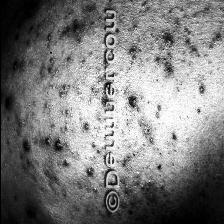Non-Cancerous Skin Condition: (0, 7, 100, 190), (142, 0, 224, 110), (124, 119, 167, 216), (0, 194, 27, 224)
